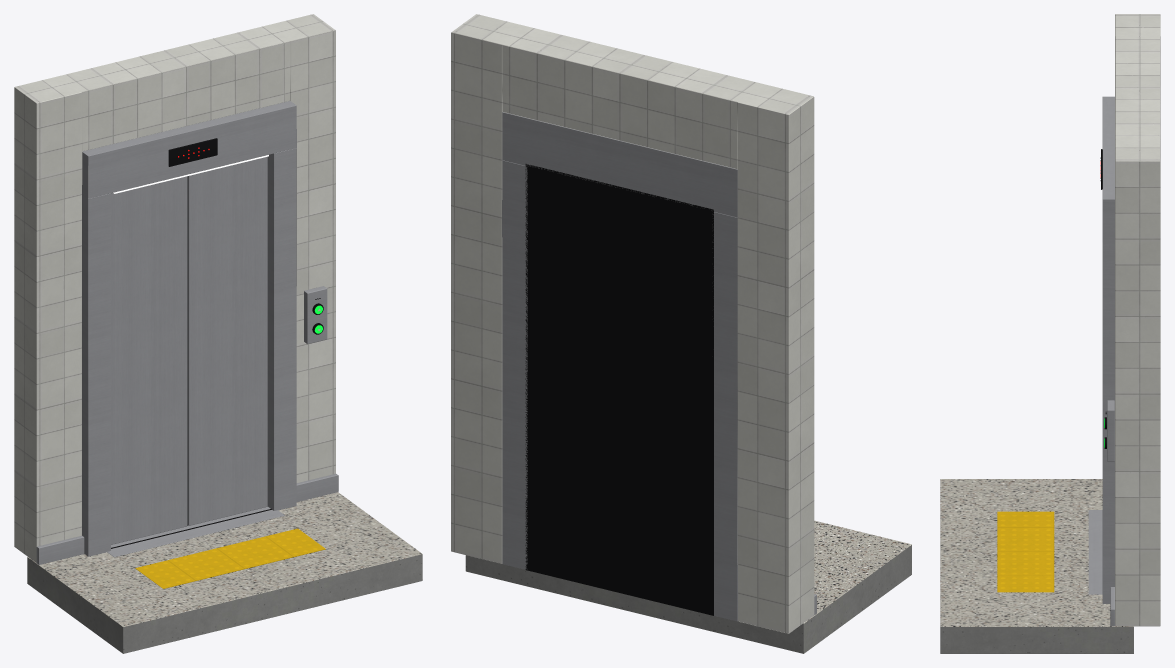
Rendered from gteki_lift_portal_w1000.glb.
The picture shows the model from 3 angles, left to right: view 1: azimuth 30°, elevation 25°; view 2: azimuth 150°, elevation 25°; view 3: azimuth 270°, elevation 25°; orthographic projection. The views are drawn at different scales.
Visible parts, largest first — view 1: VIS_surround, VIS_doors, VIS_portal_frame, VIS_approach_floor, VIS_tactile, VIS_skirting, VIS_call_panel, VIS_floor_indicator; view 2: VIS_surround, VIS_door_reveals, VIS_portal_frame, VIS_approach_floor; view 3: VIS_surround, VIS_approach_floor, VIS_portal_frame, VIS_tactile, VIS_call_panel.
Boxes of the visible parts, box(x1,y1,x2,y2) form: VIS_surround: box(14, 14, 335, 562); VIS_doors: box(111, 156, 267, 544); VIS_portal_frame: box(82, 101, 296, 557); VIS_approach_floor: box(27, 492, 422, 653); VIS_tactile: box(135, 528, 325, 588); VIS_skirting: box(36, 473, 338, 564); VIS_call_panel: box(304, 286, 327, 344); VIS_floor_indicator: box(168, 138, 217, 166); VIS_surround: box(451, 14, 814, 633); VIS_door_reveals: box(525, 164, 713, 615); VIS_portal_frame: box(502, 112, 737, 621); VIS_approach_floor: box(465, 520, 911, 653); VIS_surround: box(1115, 14, 1160, 626); VIS_approach_floor: box(940, 479, 1133, 653); VIS_portal_frame: box(1088, 96, 1114, 603); VIS_tactile: box(997, 511, 1054, 592); VIS_call_panel: box(1107, 400, 1114, 461).
Size of what is drawn, in the model's own units: 1.84 by 2.86 by 1.16.
Materials: 11 (5 with a texture image).
